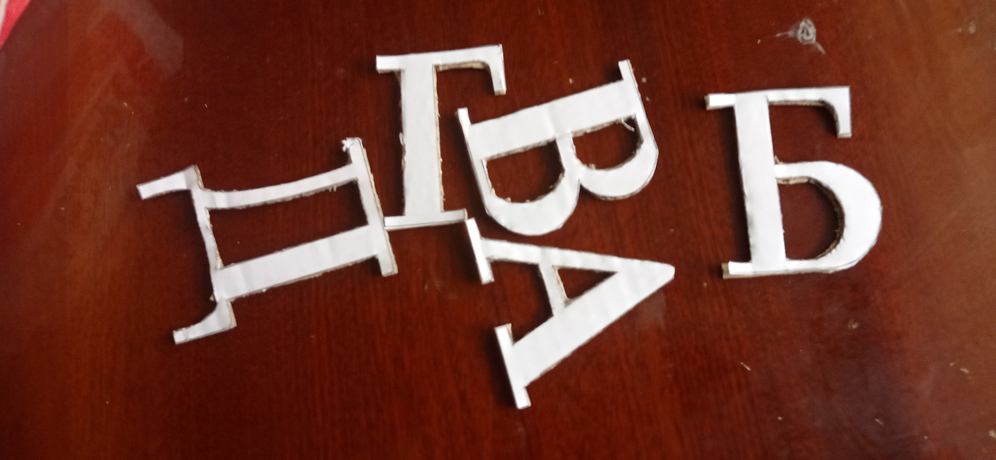a: (464, 217, 677, 412)
b: (705, 85, 884, 276)
d: (134, 136, 399, 346)
g: (377, 43, 507, 231)
v: (456, 58, 659, 237)
